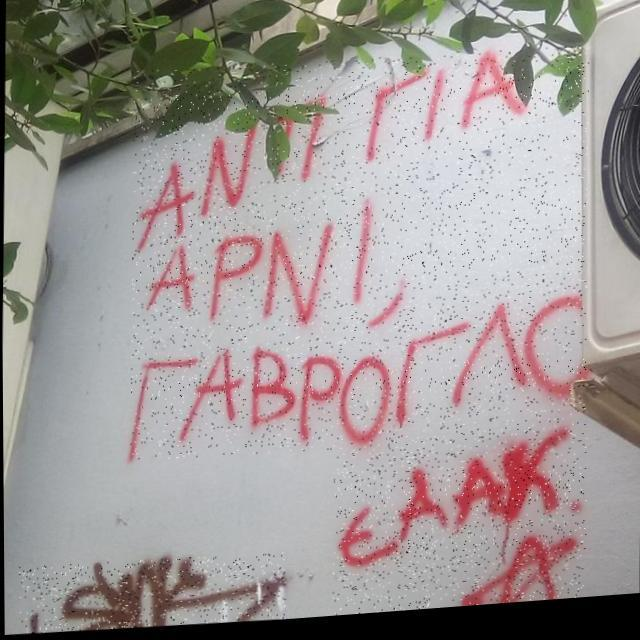-: (127, 46, 590, 470), (329, 435, 586, 621), (17, 551, 285, 639)
